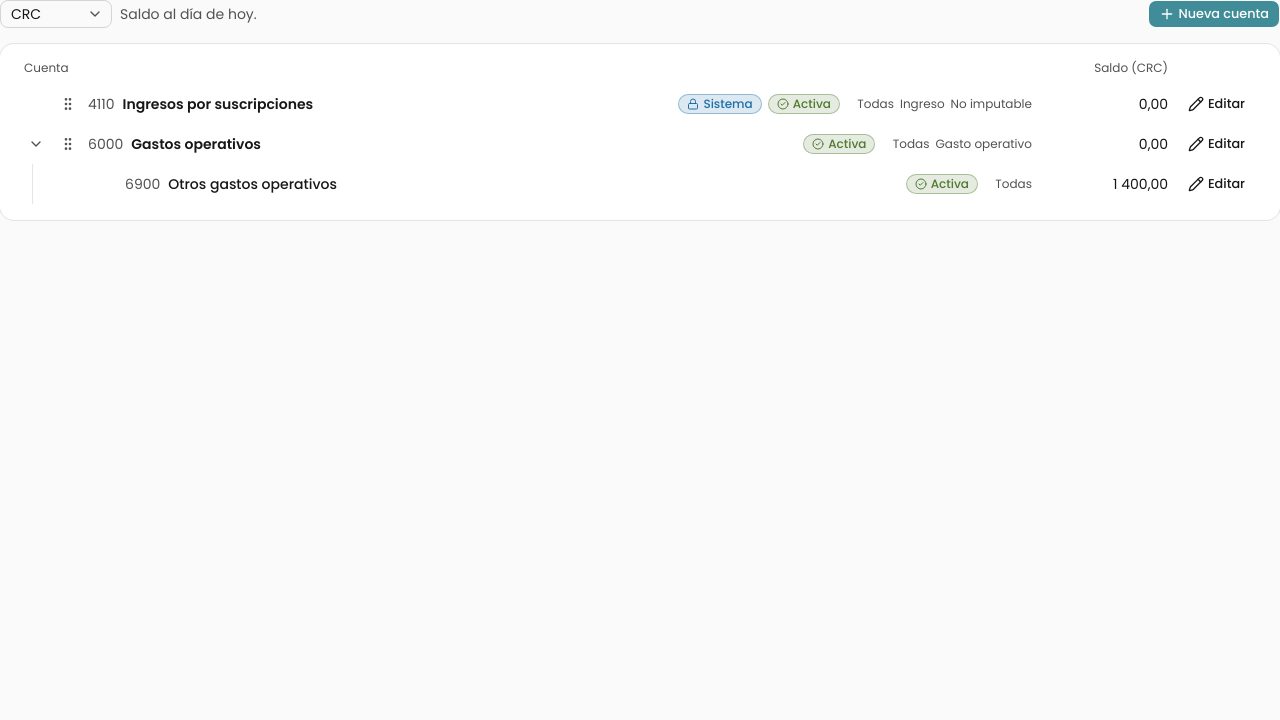
FinanceAccountsTree — cuentas del sistema › no ofrece retirarla: el switch de estado no está
The width and height of the screenshot is (1280, 720).
Click the button "Editar" in the row of "No imputable".
click(1216, 104)  # box [1177, 90, 1256, 118]
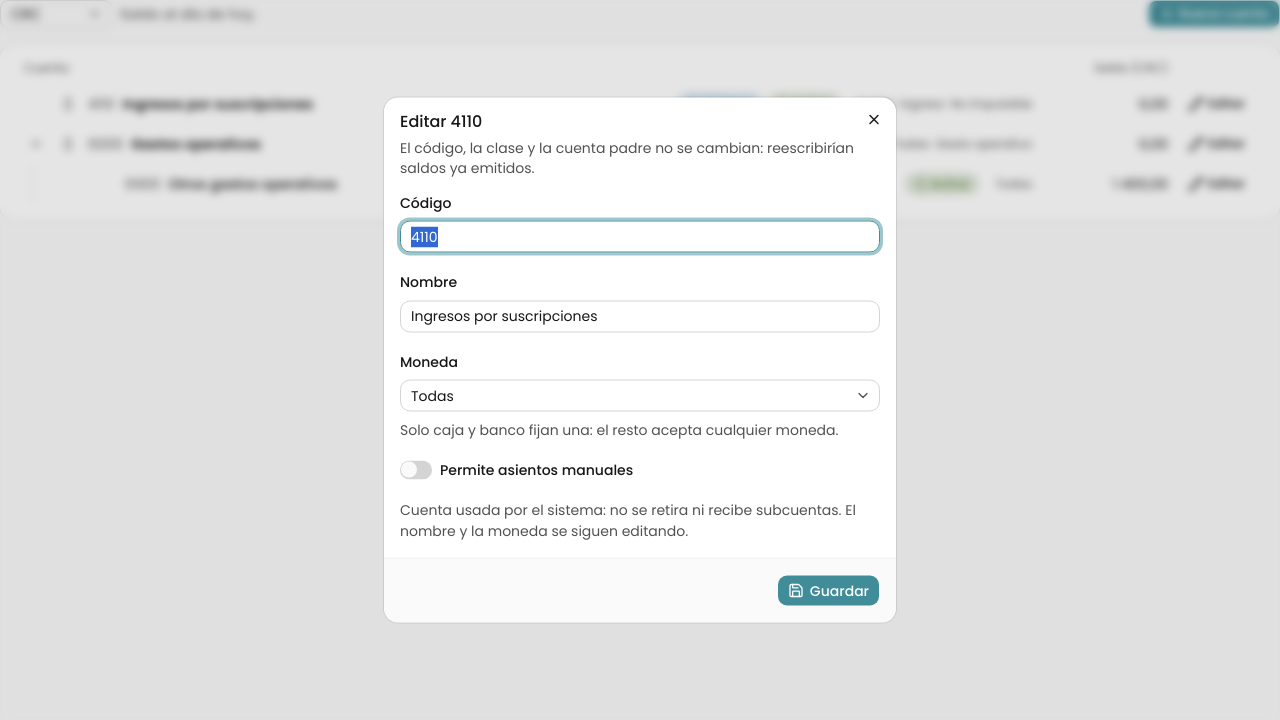
Check: the dialog is shown, box [384, 98, 896, 622]
Check: the field labelled "Nombre" is shown, box [400, 300, 880, 332]
